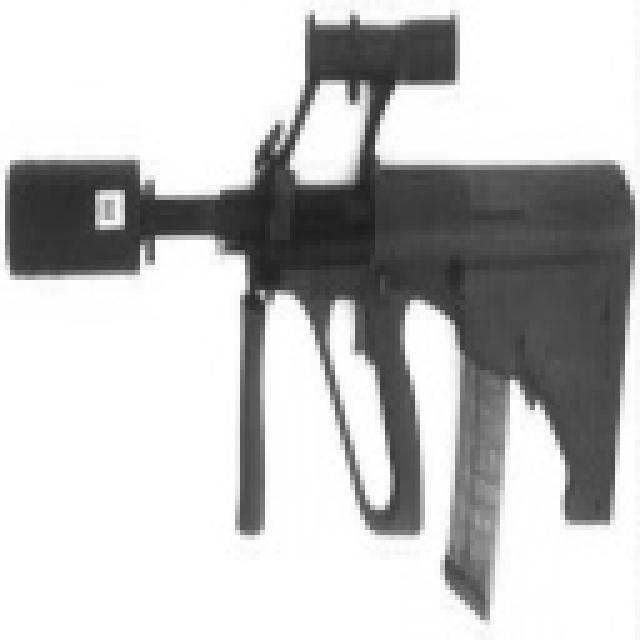Rifle: (15, 19, 596, 552)
